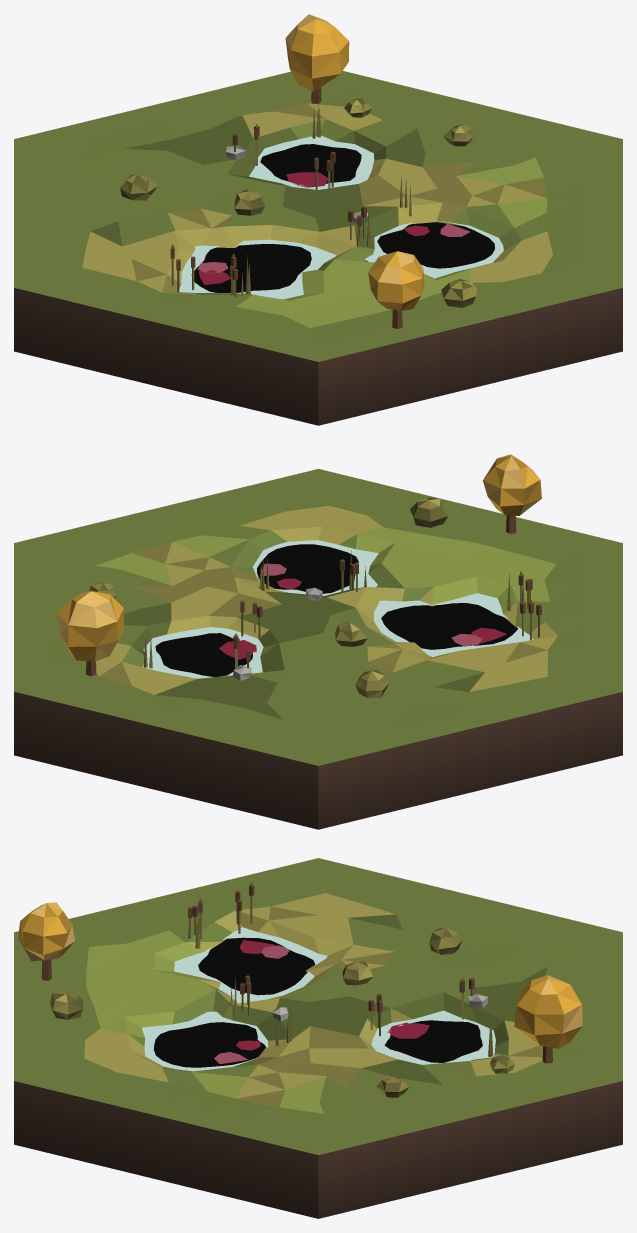
File: SM_Tile_Marsh_A.fbx
3 views of the same model, one above another, from view 1: azimuth 30°, elevation 25°; view 2: azimuth 150°, elevation 25°; view 3: azimuth 270°, elevation 25° (orthographic).
Parts seen in each view (by area): view 1: SM_Tile_Marsh_A; view 2: SM_Tile_Marsh_A; view 3: SM_Tile_Marsh_A.
Part boxes in pixels (box(x1,y1,x2,y2)): SM_Tile_Marsh_A: box(14, 14, 622, 425); SM_Tile_Marsh_A: box(14, 454, 622, 829); SM_Tile_Marsh_A: box(14, 858, 622, 1218).
Bounding box in the file's own units: 20 × 4.6 × 17.32.
